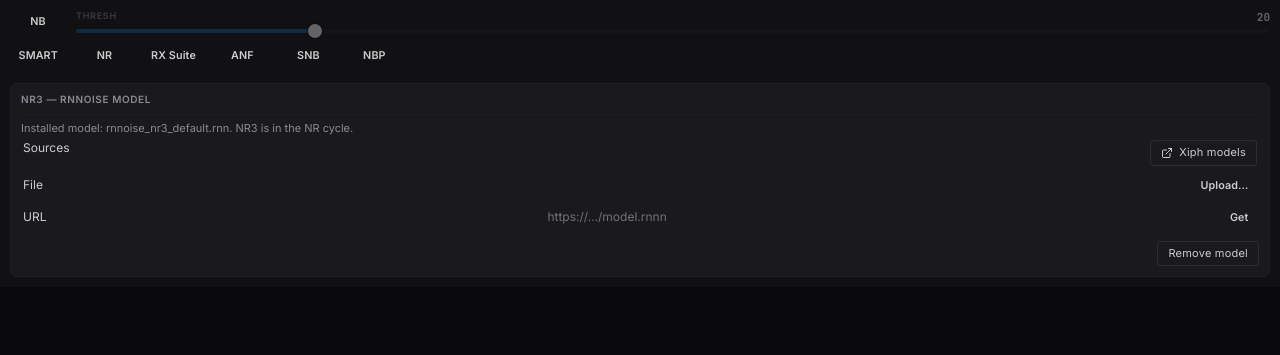
Test case: DspPanel SMART control › cycles NR3 before NR4 when an RNNoise model is active
Click the button "NR".
click(104, 55)  # box x1=76 y1=44 x2=132 y2=67
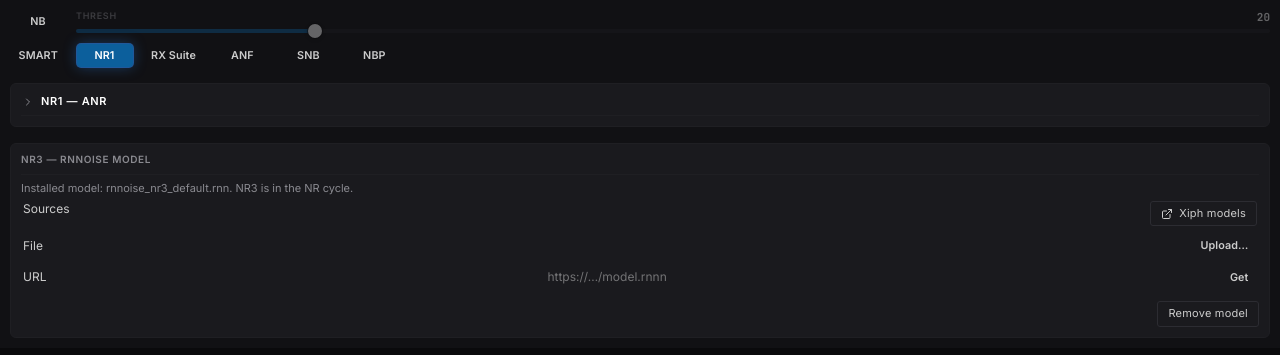
Click the button "NR1".
click(104, 55)  # box x1=76 y1=44 x2=132 y2=67
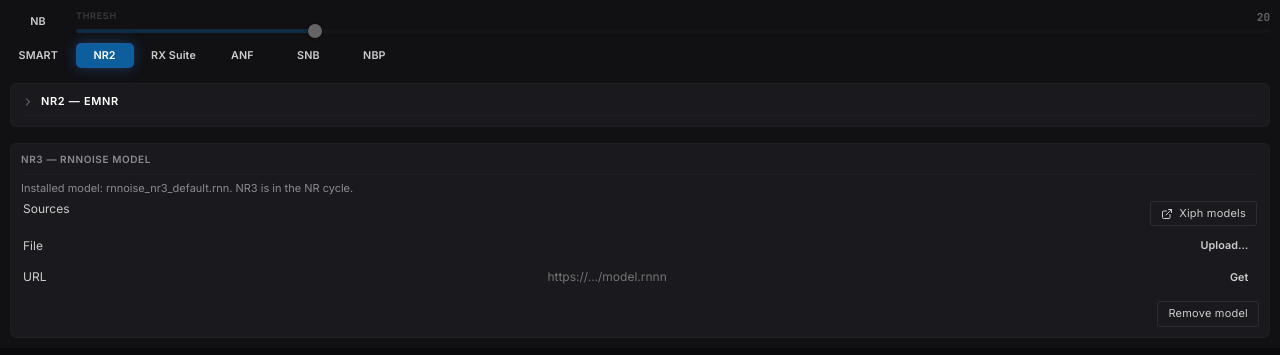
Click the button "NR2".
click(104, 55)  # box x1=76 y1=44 x2=132 y2=67
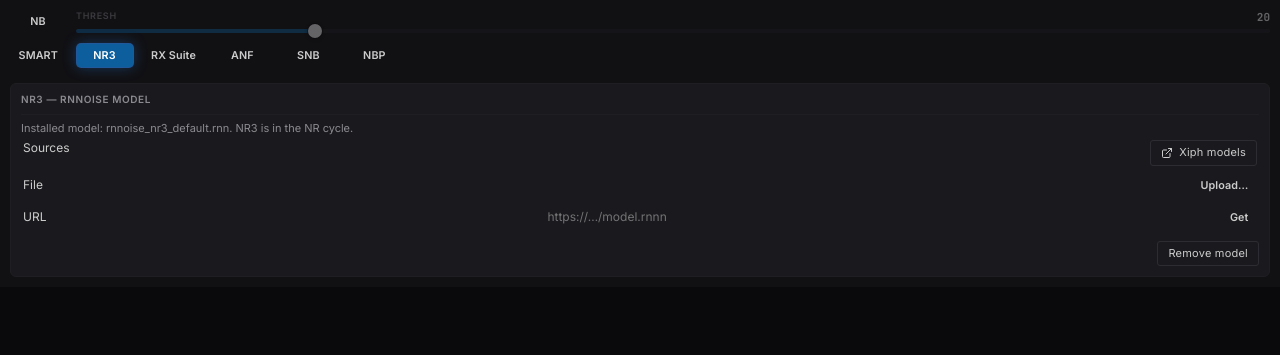
Result: the button "NR3" is shown
Click the button "NR3".
click(104, 55)  # box x1=76 y1=44 x2=132 y2=67
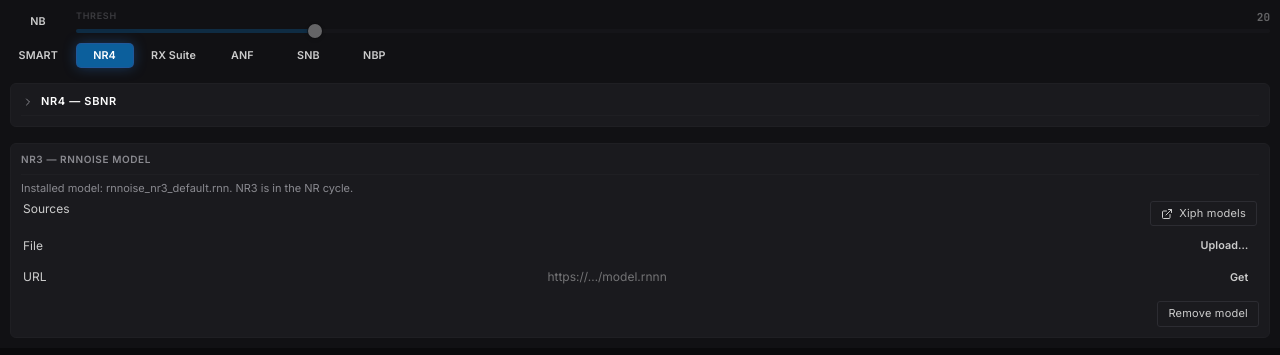
Result: the button "NR4" is shown at x1=76 y1=44 x2=132 y2=67
